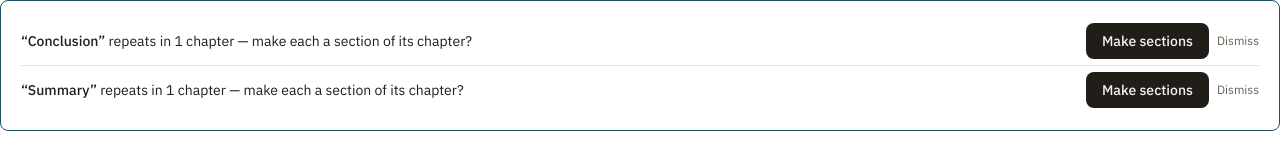
Test: SubchapterSuggestionsPanel (SUBCHAPTER_PROMOTION) › A1: an in-flight "Make sections" changes ONLY its own button; a second group's stays live
Expected: the text "“Conclusion”" is shown, [21,32,105,50]
Click the button "Make sections" in the row of "Conclusion" at (1147, 41), box [1086,23,1209,59]
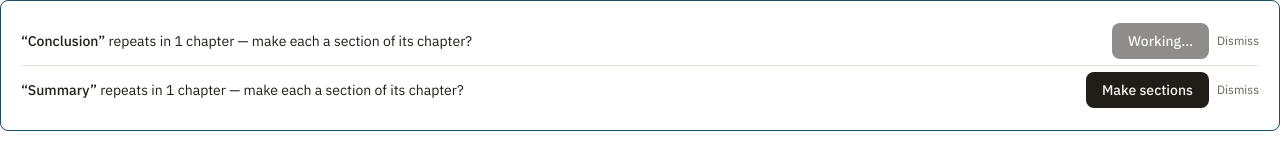
Expected: the button "Make sections" is enabled, [1086,72,1209,108]
Now the button "Working…" is disabled, box [1112,23,1209,59]
